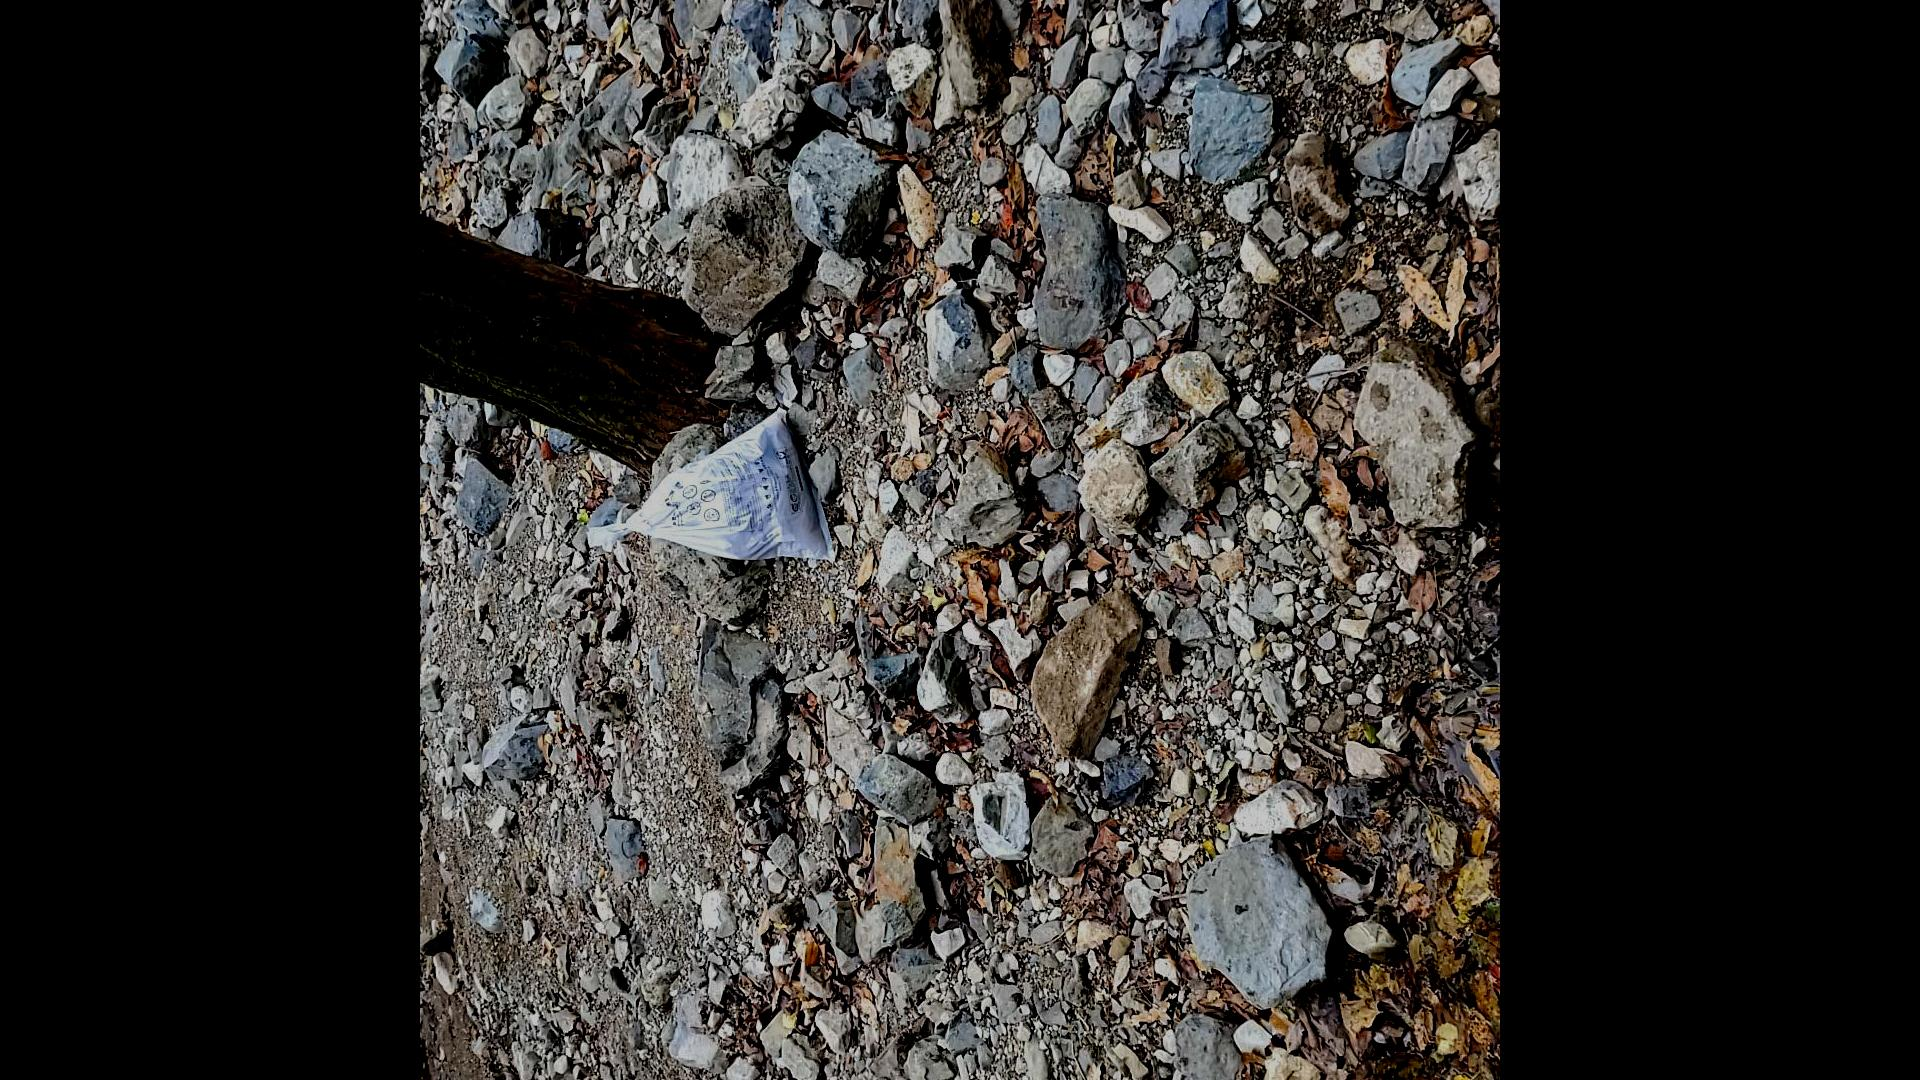white_bag: (582, 401, 836, 570)
